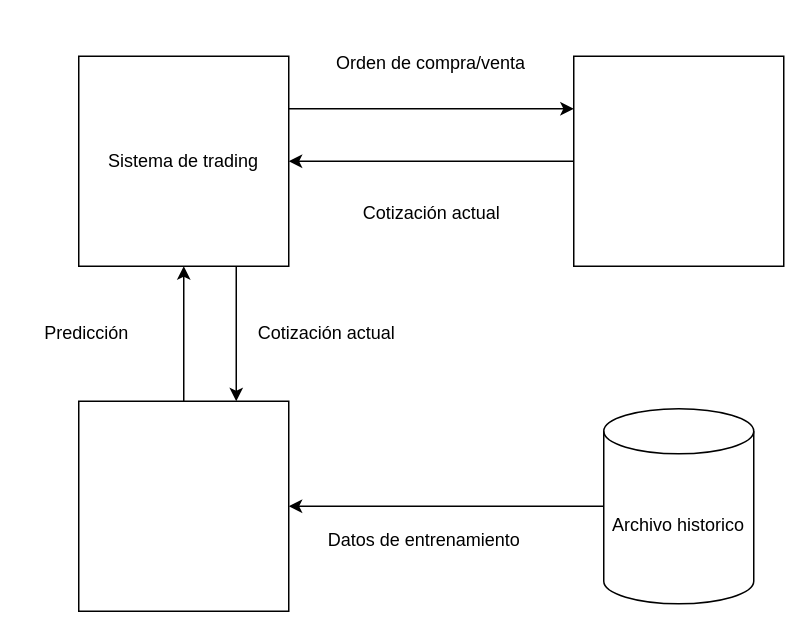
Some shapes in this 810 by 638 pixel diagram are drawn without their labels. Each missing label, with the centre of its shape:
Api de trading: (x=678, y=160)
Modelo predictivo: (x=183, y=505)
